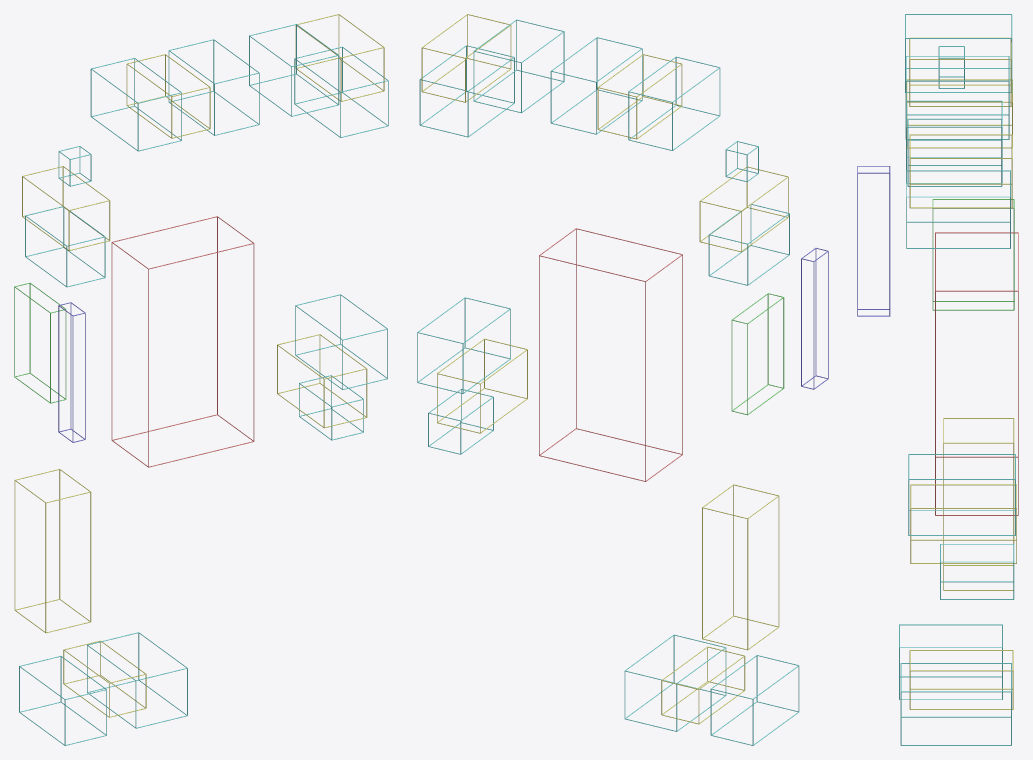
3 views of the same model, side by side, from view 1: azimuth 30°, elevation 25°; view 2: azimuth 150°, elevation 25°; view 3: azimuth 270°, elevation 25° (orthographic). The views are drawn at different scales.
Parts seen in each view (by area): view 1: world; view 2: world; view 3: world.
Boxes of the visible parts, bbox=[...] form: world: bbox=[14, 14, 388, 745]; world: bbox=[417, 14, 828, 745]; world: bbox=[857, 14, 1018, 745].
Bounding box in the file's own units: 4.61 × 8.13 × 1.69.
